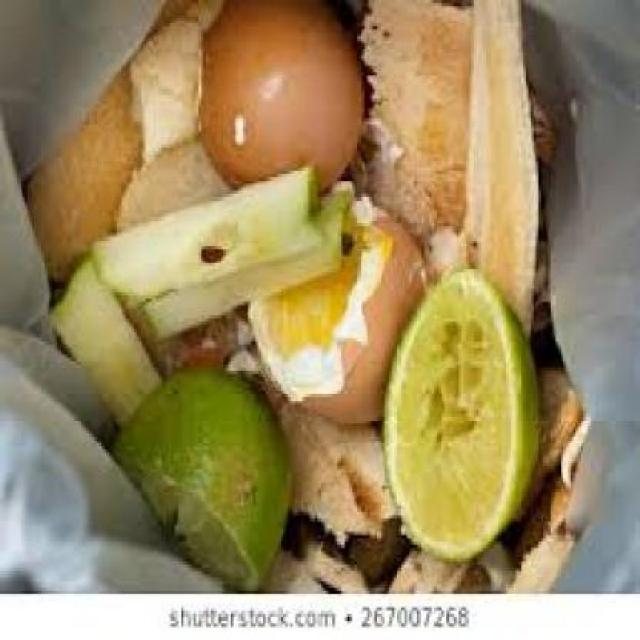garbage: (54, 0, 570, 564)
